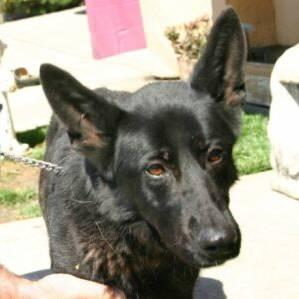dog: (39, 8, 244, 298)
